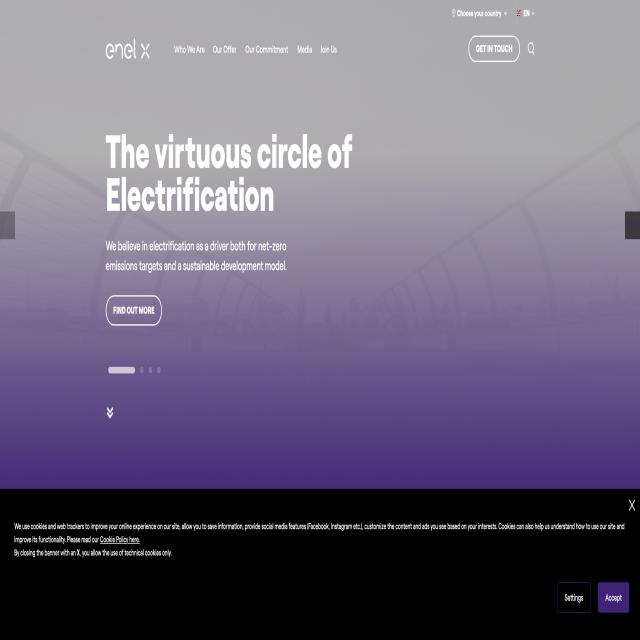Logo: (92, 32, 162, 64)
Navigation: (168, 31, 560, 75)
